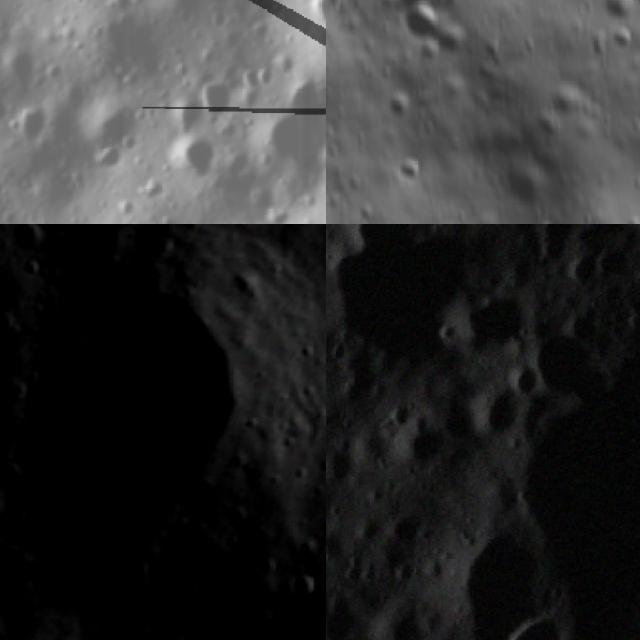crater: (8, 256, 250, 625), (326, 224, 503, 380), (450, 271, 544, 366), (262, 80, 326, 196), (456, 362, 538, 448), (489, 585, 582, 640), (365, 580, 449, 640), (387, 411, 453, 478), (326, 573, 373, 640), (502, 347, 556, 401), (385, 503, 432, 552), (166, 136, 210, 187), (0, 588, 42, 640), (404, 0, 455, 42), (7, 104, 52, 150), (379, 390, 422, 436), (395, 148, 439, 191), (186, 78, 232, 119), (3, 46, 47, 88), (326, 440, 361, 491), (285, 566, 326, 605), (603, 0, 640, 20), (612, 24, 638, 51), (528, 209, 570, 224), (630, 34, 640, 74)
